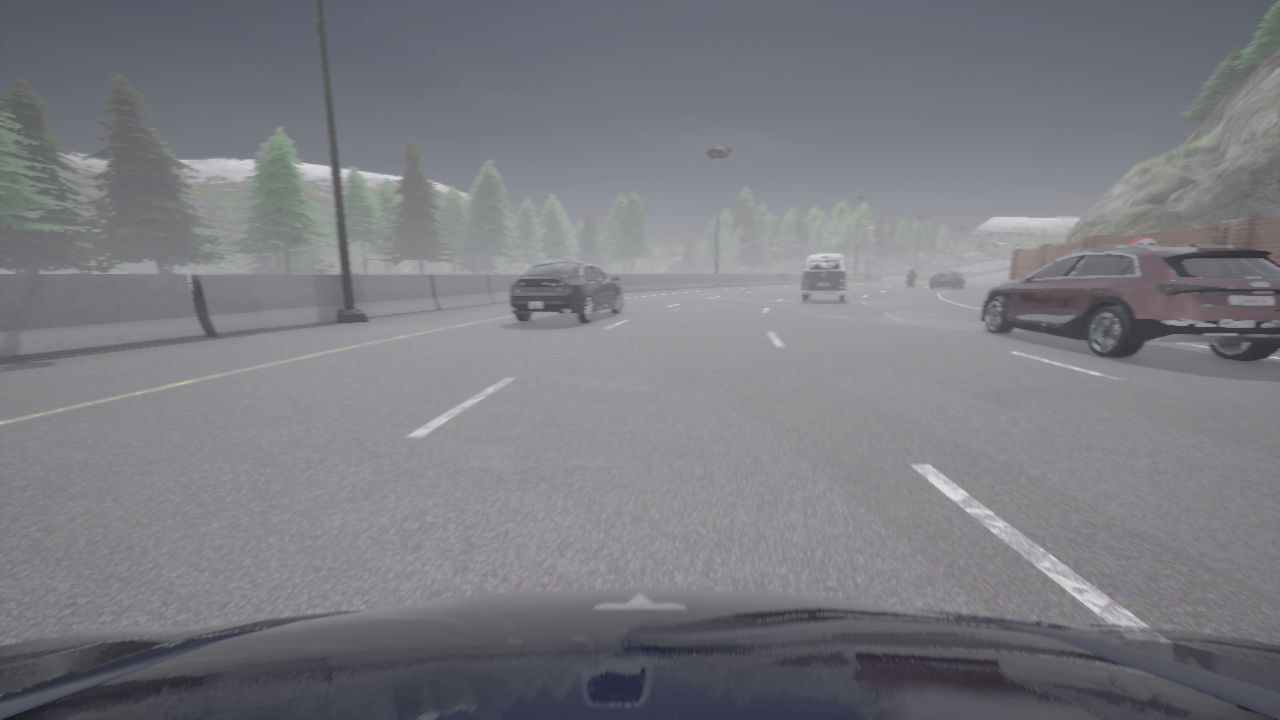cyclist: (0, 588, 1279, 719), (979, 242, 1279, 361), (508, 261, 622, 323), (801, 253, 850, 301), (929, 271, 963, 287), (906, 275, 916, 285)
